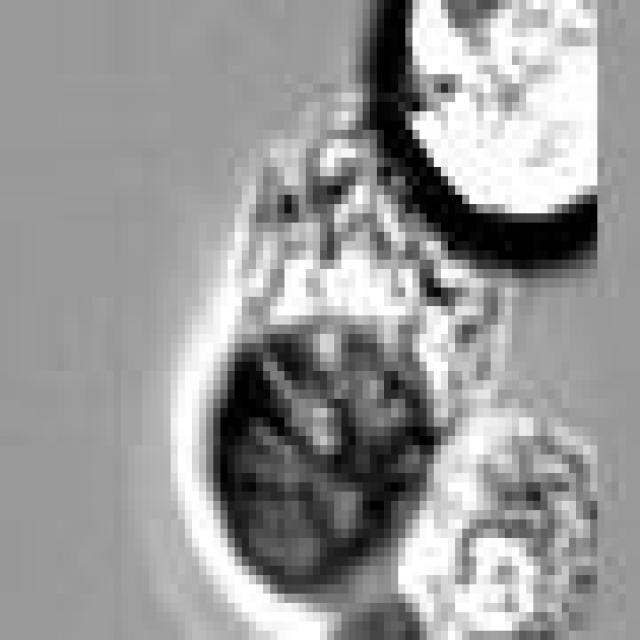Cancer Cell: (249, 84, 519, 445), (406, 9, 612, 223)
WBC: (426, 417, 604, 640)
